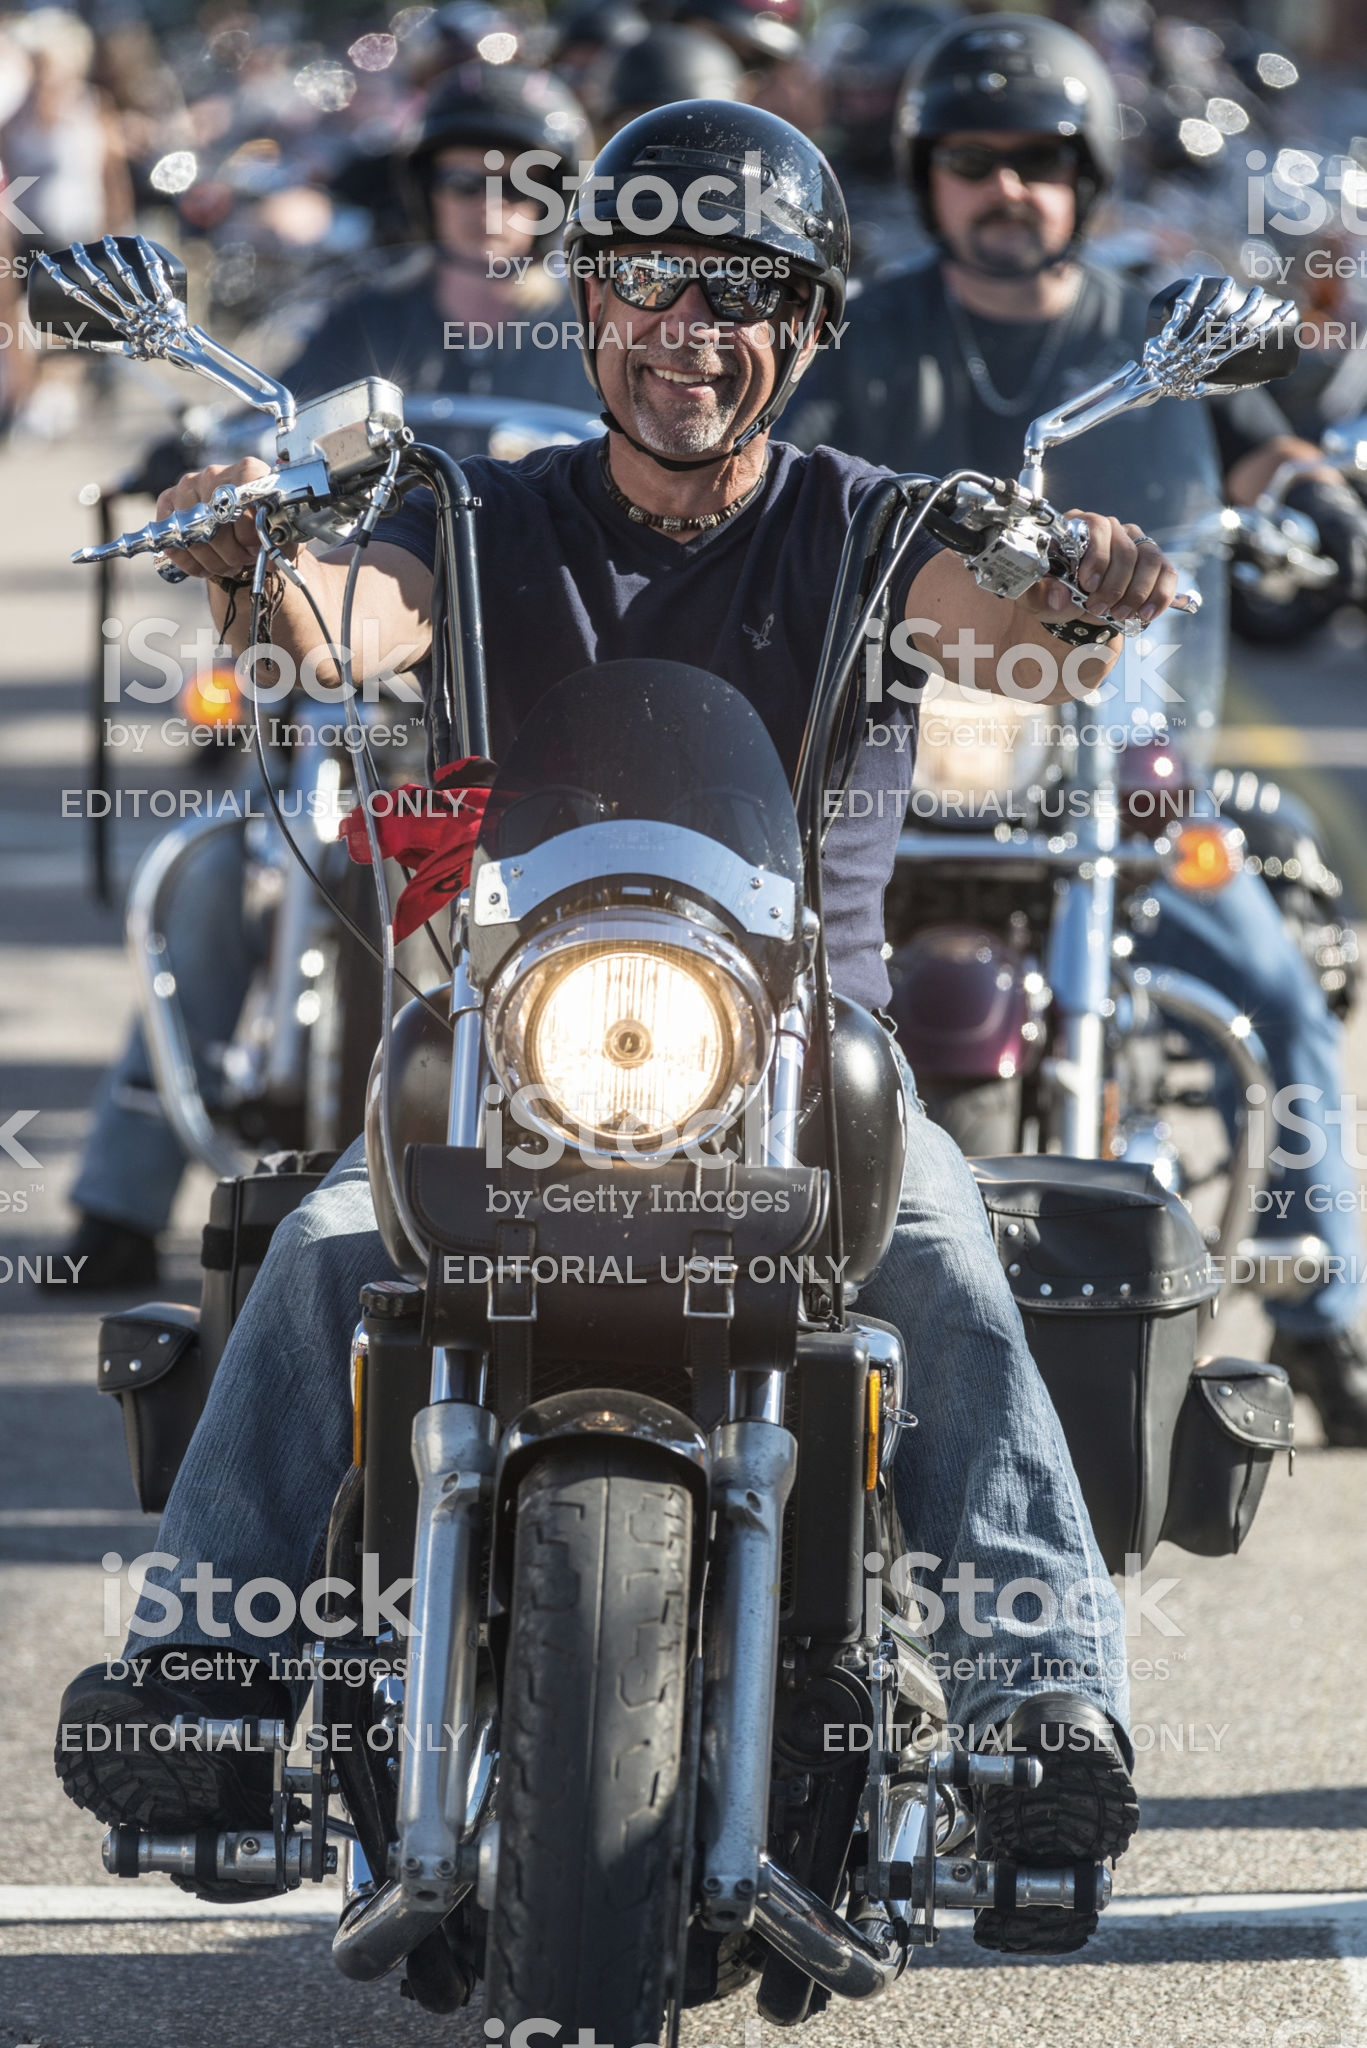helmet: (552, 91, 864, 265)
